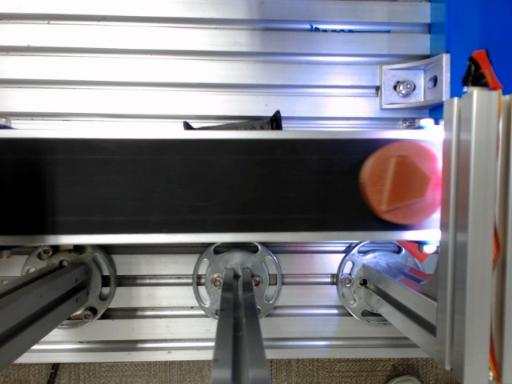Brown_Waper: (359, 141, 440, 224)
